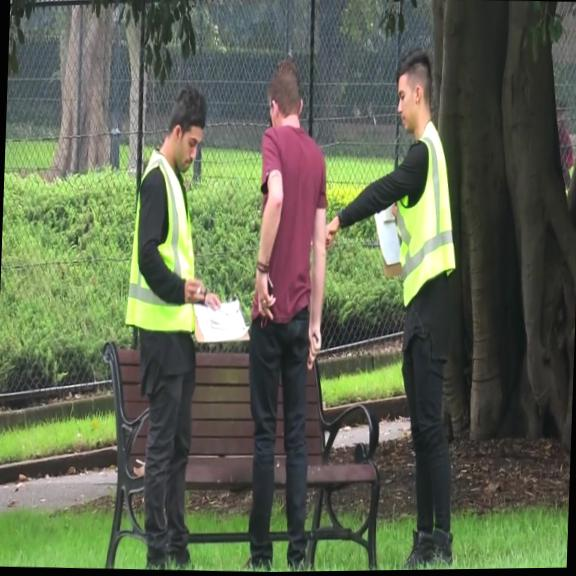safety_vest: (122, 143, 200, 337), (393, 120, 461, 309)
